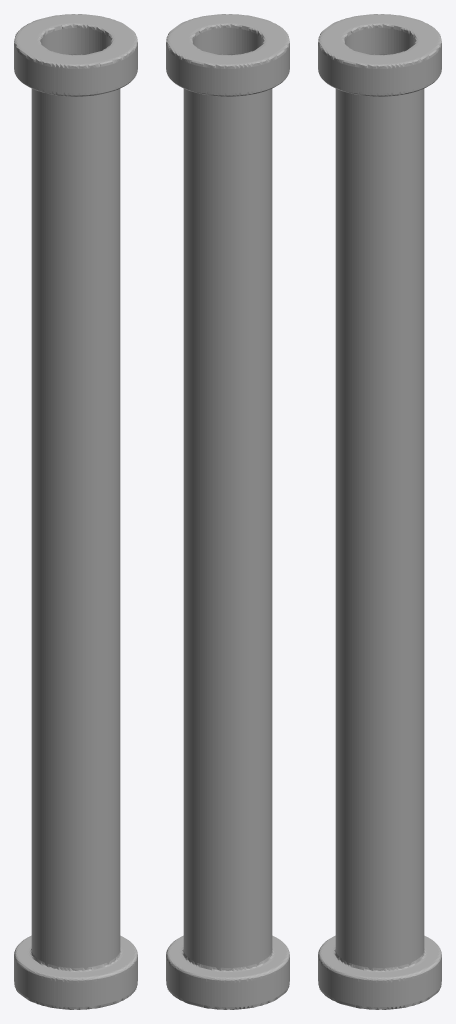
The model's file is Pipe14.fbx.
3 renders of one model, left to right at view 1: azimuth 30°, elevation 25°; view 2: azimuth 150°, elevation 25°; view 3: azimuth 330°, elevation 25°, orthographic.
Parts seen in each view (by area): view 1: Pipe14; view 2: Pipe14; view 3: Pipe14.
Part boxes in pixels (x1,y1,x2,y2): Pipe14: (14, 14, 137, 1009); Pipe14: (166, 14, 289, 1009); Pipe14: (318, 14, 441, 1009).
Bounding box in the file's own units: 199 × 1678 × 199.
